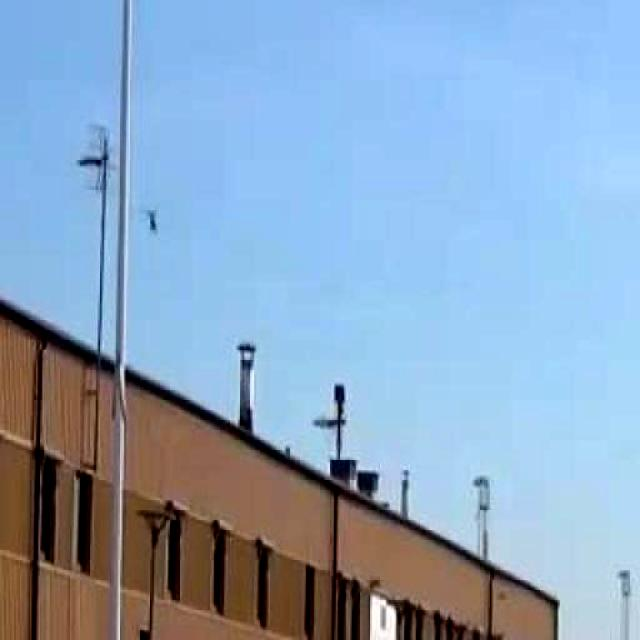drone: (140, 192, 164, 249)
